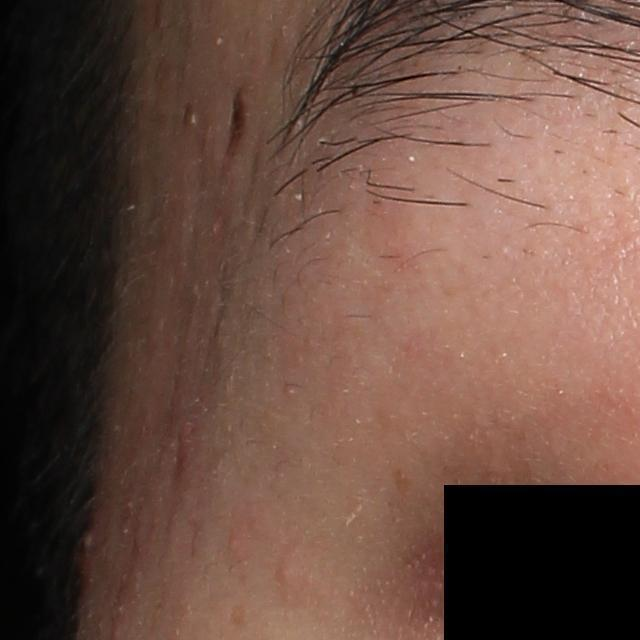melasma: (393, 469, 417, 501), (228, 600, 252, 632)
nevus: (218, 79, 254, 169)
